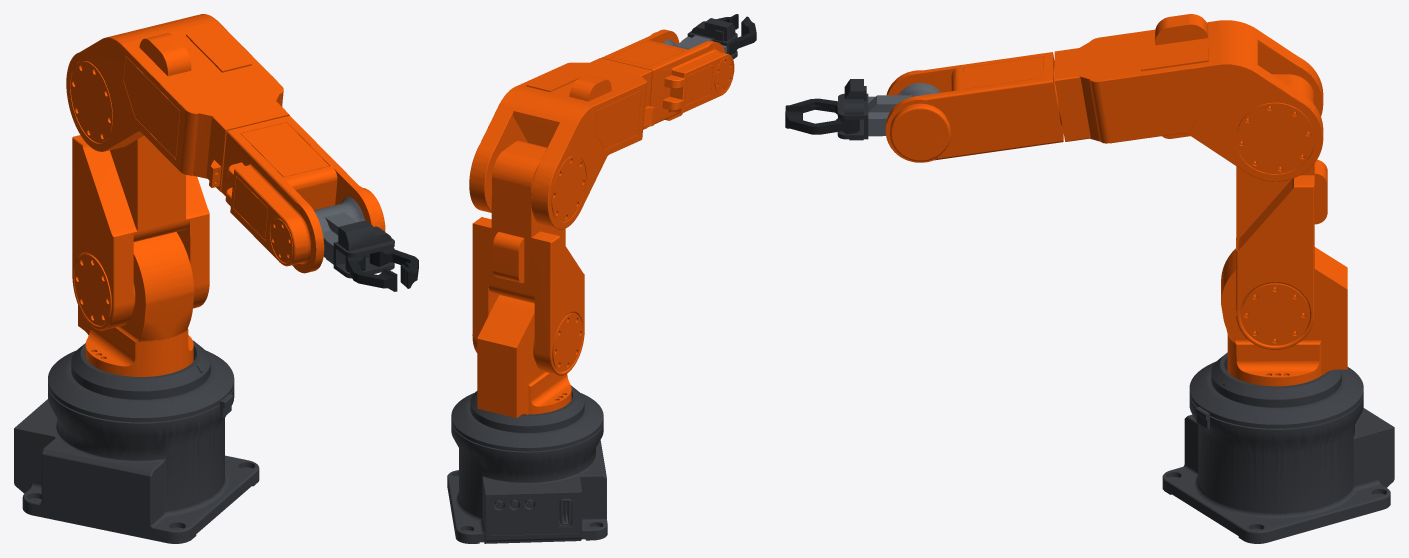
The model's file is robot.glb.
The picture shows the model from 3 angles, left to right: view 1: azimuth 30°, elevation 25°; view 2: azimuth 150°, elevation 25°; view 3: azimuth 270°, elevation 25°; orthographic projection. The views are drawn at different scales.
Parts seen in each view (by area): view 1: A3, Base, A2, A1, A5, A4, FingerR, FingerL; view 2: A3, Base, A2, A1, A5, FingerR, A4; view 3: A3, Base, A2, A1, A5, A4, FingerL.
Part boxes in pixels (box(x1,y1,x2,y2)): A3: box(66, 14, 385, 273); Base: box(14, 340, 259, 543); A2: box(72, 135, 209, 330); A1: box(78, 232, 194, 376); A5: box(333, 220, 394, 278); A4: box(314, 197, 364, 264); FingerR: box(345, 255, 397, 291); FingerL: box(369, 247, 418, 288); A3: box(469, 29, 734, 229); Base: box(447, 385, 607, 543); A2: box(472, 141, 584, 375); A1: box(477, 295, 571, 418); A5: box(687, 18, 737, 59); FingerR: box(729, 16, 756, 54); A4: box(663, 35, 726, 53); A3: box(885, 14, 1323, 181); Base: box(1162, 352, 1394, 543); A2: box(1236, 74, 1327, 349); A1: box(1221, 247, 1347, 386); A5: box(837, 79, 868, 140); A4: box(868, 83, 940, 136); FingerL: box(785, 111, 859, 134).
Bounding box in the file's own units: 0.2621 × 0.5882 × 0.6996.
